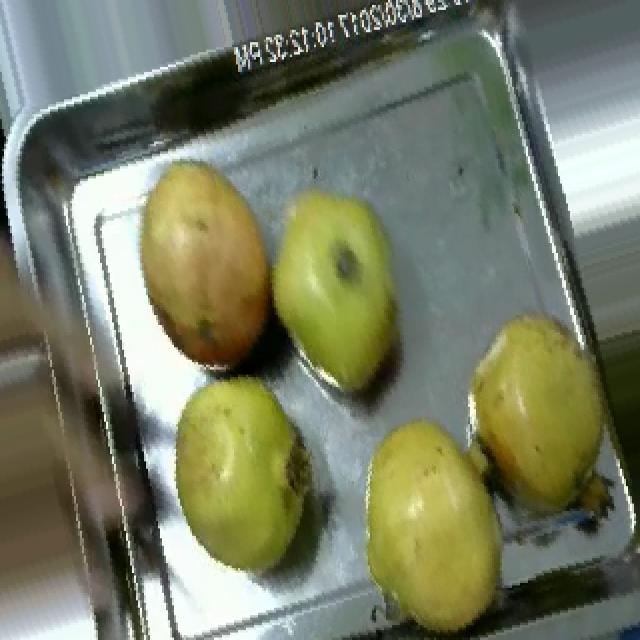fruit: (336, 387, 536, 640), (116, 134, 294, 397), (150, 355, 334, 598)
